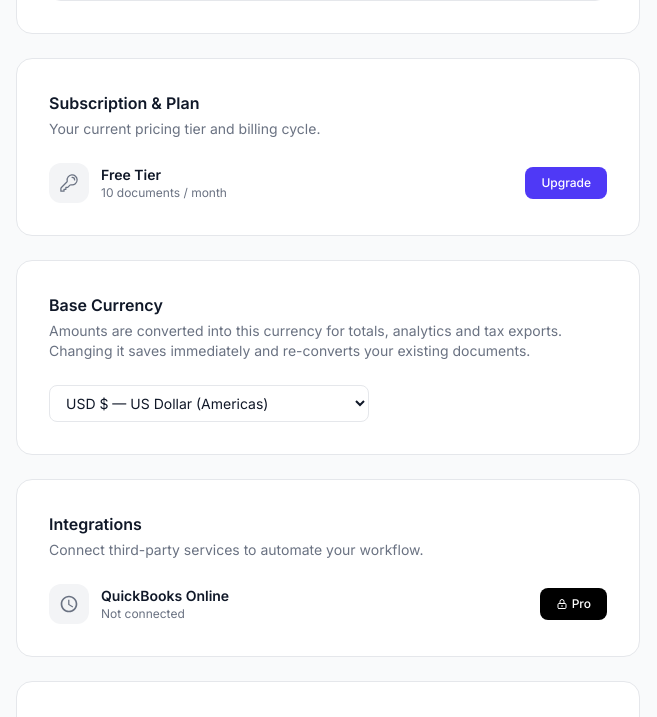
account page › reports a failed currency change
The width and height of the screenshot is (657, 717).
(page scrolled)
Select "JPY ¥ — Japanese Yen (Asia-Pacific)" in the dropdown named "Base currency" at (209, 404), box x1=49 y1=385 x2=369 y2=422
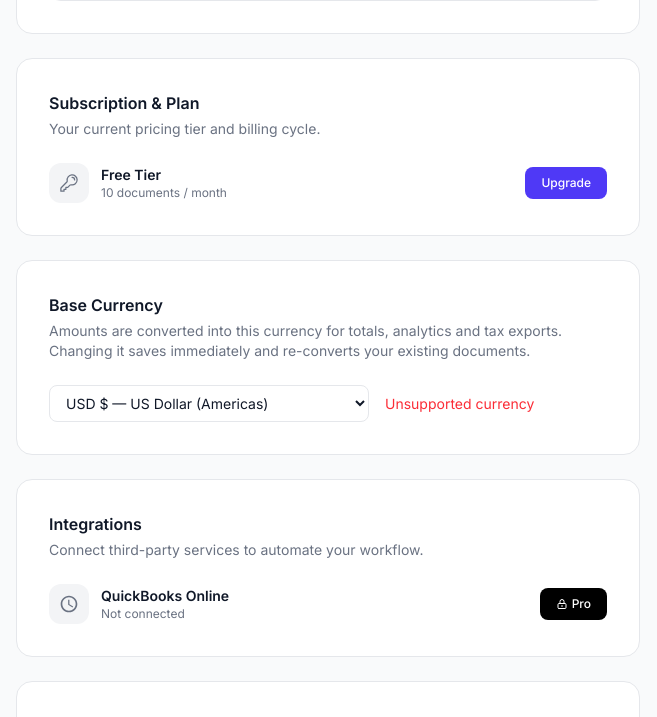
Expected: the text "Unsupported currency" is shown, x1=385 y1=394 x2=534 y2=414
